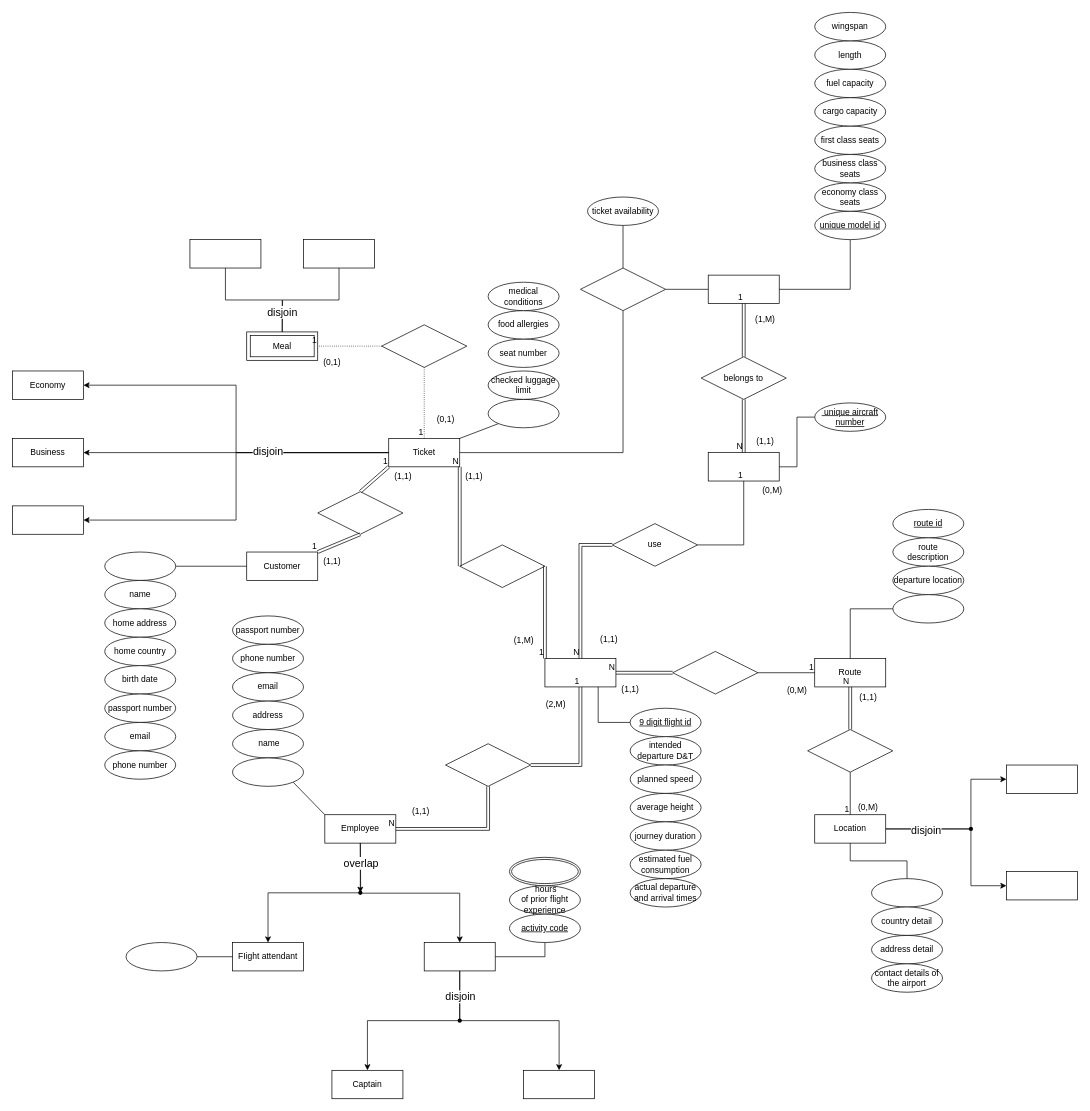
The diagram is 1090 pixels wide and 1111 high, and some of its shapes have lost their labels. The shapes that lost their labels are listed below. From the top down, each one's centre as x and y in pixels, then its label:
At pixel 225 253: "regular".
At pixel 339 253: "vegan and gluten free".
At pixel 623 289: "check".
At pixel 743 289: "Aircraft model".
At pixel 424 345: "may has".
At pixel 523 413: "unique ticket number".
At pixel 743 466: "Aircraft".
At pixel 47 519: "FIrst".
At pixel 360 512: "own".
At pixel 140 565: "unique customer number".
At pixel 502 566: "uses".
At pixel 928 608: "arrival location".
At pixel 580 672: "Flight".
At pixel 715 672: "takes".
At pixel 488 764: "Relationship".
At pixel 850 750: "depart/arrive".
At pixel 268 771: "id".
At pixel 1041 778: "Local".
At pixel 544 871: "qualifications".
At pixel 1041 885: "International".
At pixel 907 892: "3 letter airport code".
At pixel 161 956: "details about the participating".
At pixel 459 956: "Pilot".
At pixel 559 1084: "Officer".
